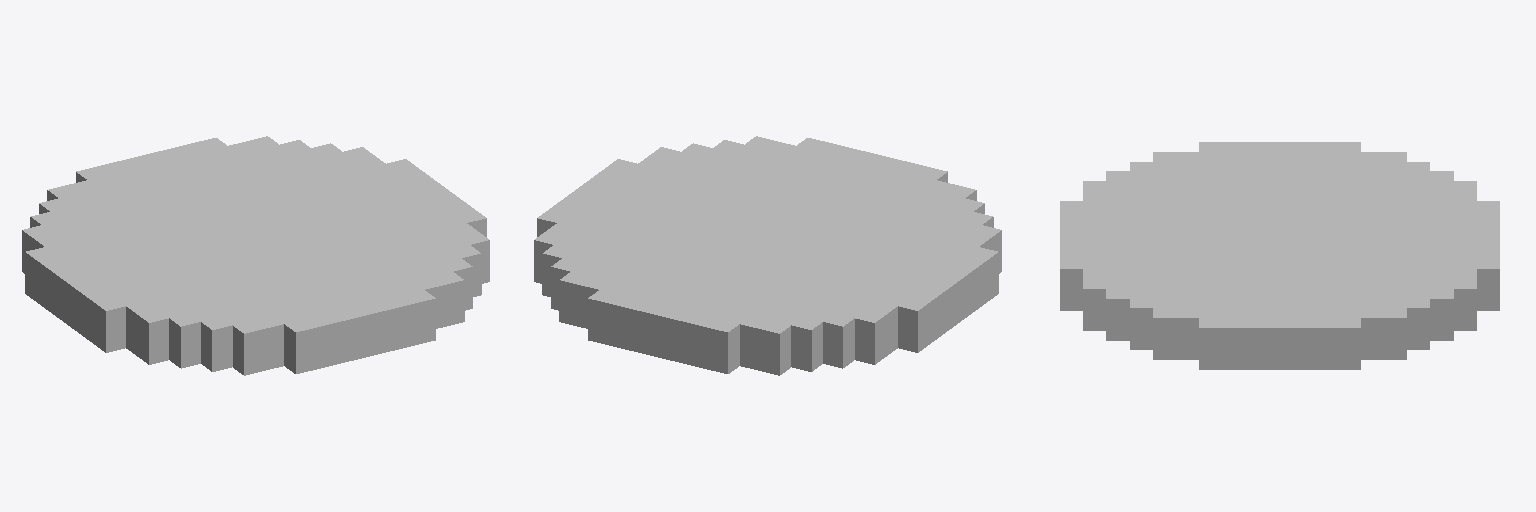
File: coin.obj
3 views of the same model, side by side, from view 1: azimuth 30°, elevation 25°; view 2: azimuth 150°, elevation 25°; view 3: azimuth 270°, elevation 25° (orthographic).
Parts seen in each view (by area): view 1: object 1; view 2: object 1; view 3: object 1.
Part boxes in pixels (x1,y1,x2,y2): object 1: (22,136,489,375); object 1: (534,136,1001,375); object 1: (1060,142,1499,369).
Bounding box in the file's own units: 1.9 × 0.2 × 1.9.